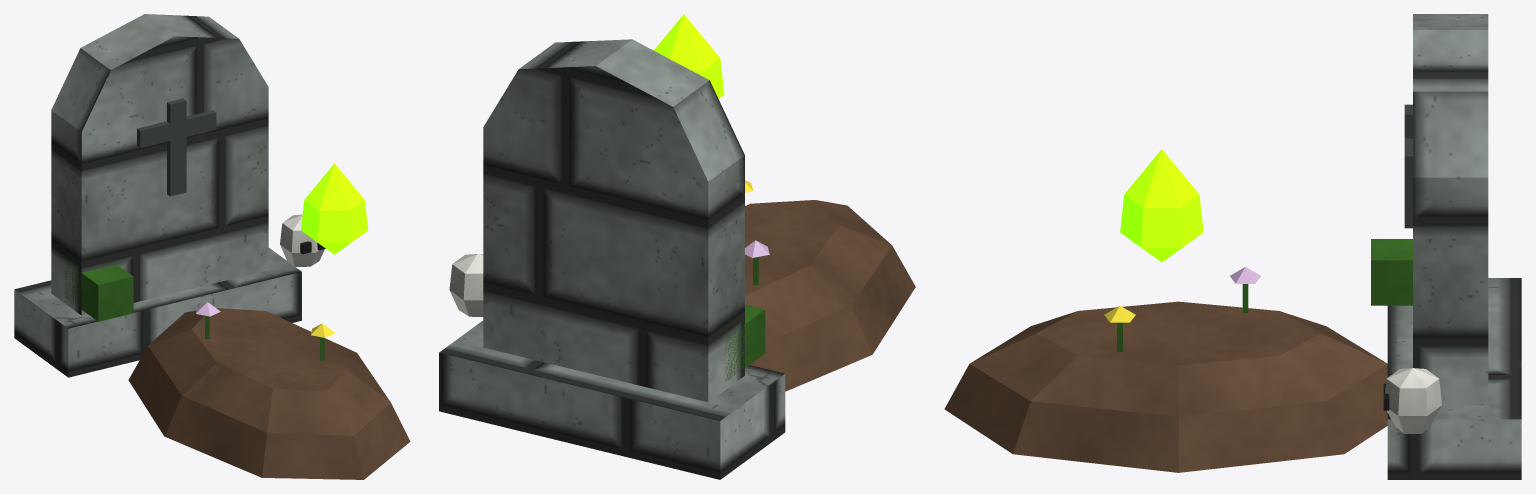
Rendered from tomb_full.glb.
The picture shows the model from 3 angles, left to right: view 1: azimuth 30°, elevation 25°; view 2: azimuth 150°, elevation 25°; view 3: azimuth 270°, elevation 25°; orthographic projection. The views are drawn at different scales.
Visible parts, largest first — view 1: base_mesh, wisp_mesh; view 2: base_mesh, wisp_mesh; view 3: base_mesh, wisp_mesh.
Part boxes in pixels (box(x1,y1,x2,y2)): base_mesh: box(14, 14, 410, 479); wisp_mesh: box(301, 163, 368, 254); base_mesh: box(439, 39, 915, 479); wisp_mesh: box(654, 14, 724, 98); base_mesh: box(944, 14, 1521, 479); wisp_mesh: box(1120, 149, 1203, 262).
Size of the model in its own units: 0.4503 by 0.5 by 0.69.
Materials: 9 (4 with a texture image).
